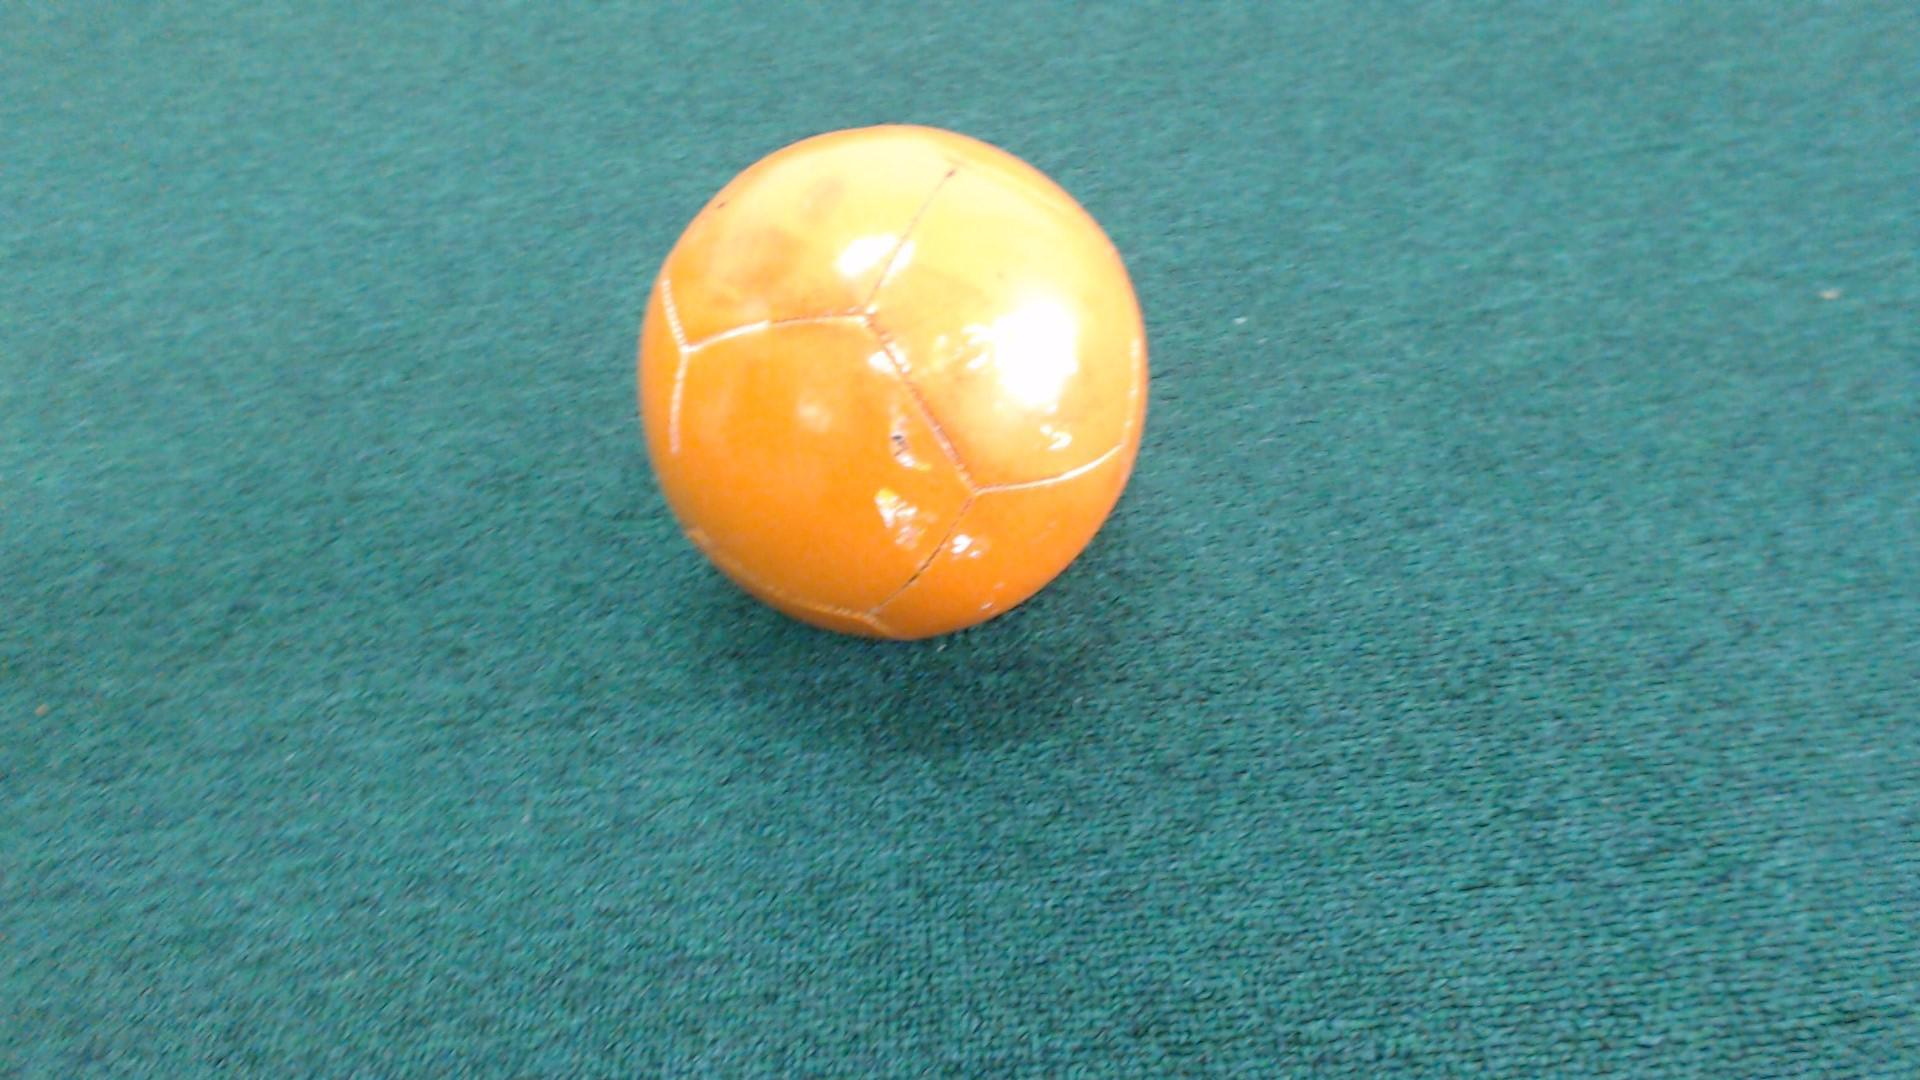bola: (597, 99, 1187, 666)
